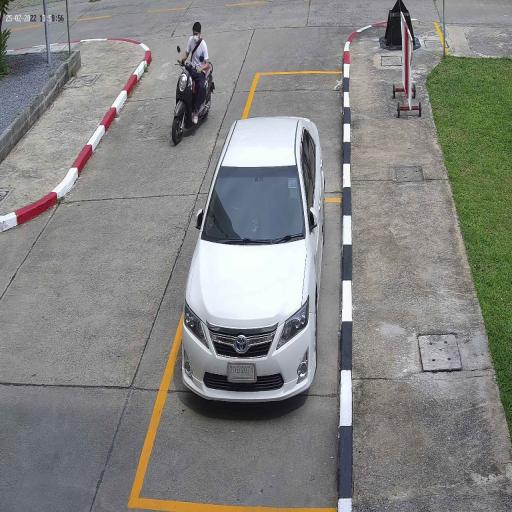car: (182, 116, 324, 402)
motorcycle: (172, 60, 214, 144)
